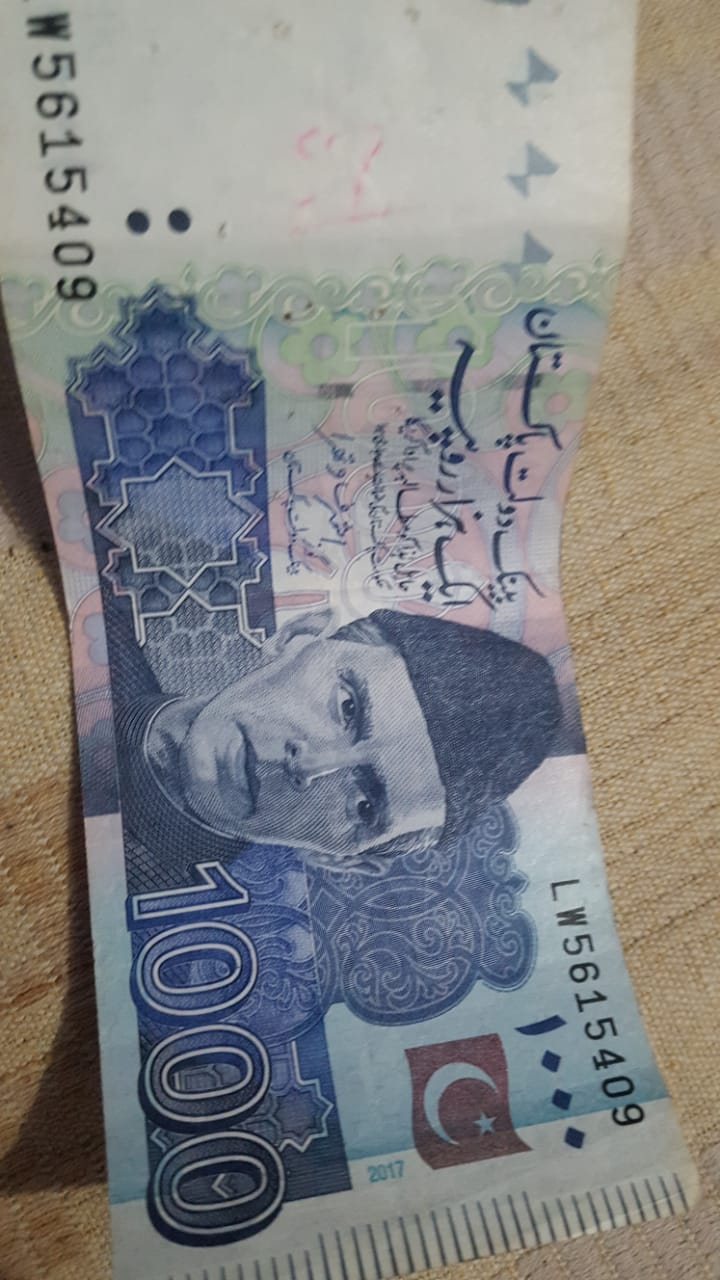1000 rupee: (22, 11, 684, 1258)
